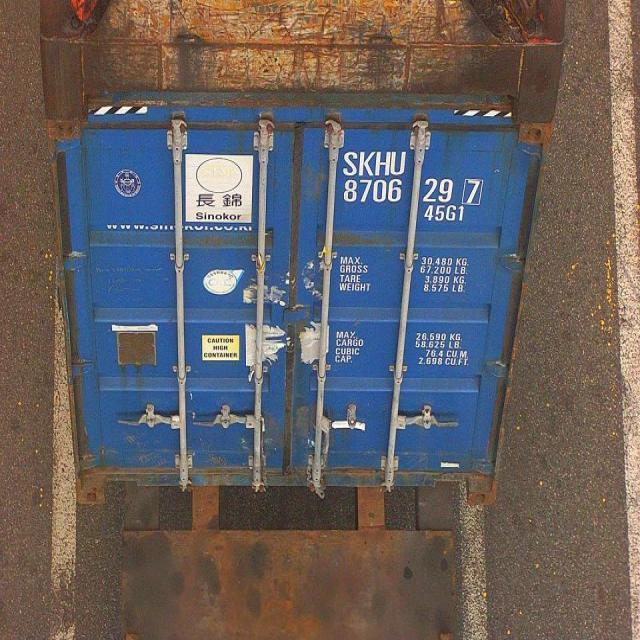ISO: (424, 206, 467, 225)
container_number: (340, 144, 483, 201)
